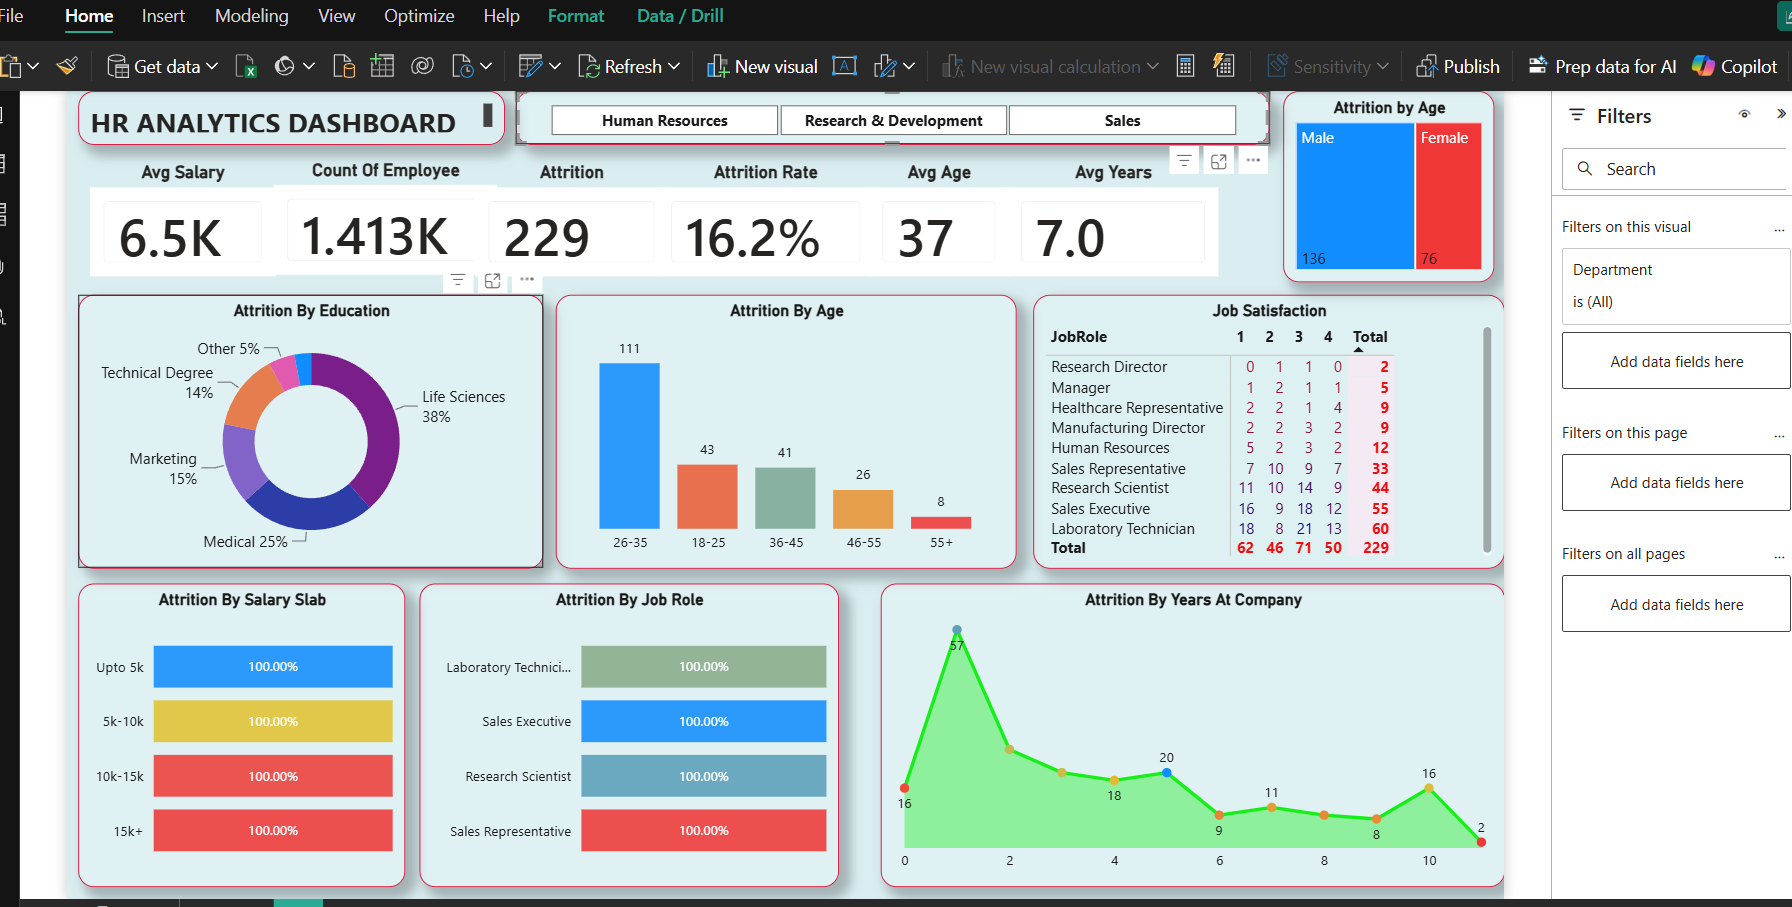

This screenshot's page, from the dashboard's own definition file:
{"tool":"powerbi","page":{"name":"Page 1","canvas":[1280,720],"ordinal":0},"visuals":[{"type":"cardVisual","title":"Count Of Employee ","fields":{"Data":["CountNonNull(HR_Analytics.EmpID)"]},"box":[179.8,61.7,209.9,108.4],"z":0},{"type":"cardVisual","title":"Attrition","fields":{"Data":["Sum(HR_Analytics.AttritionCount)"]},"box":[358.1,63.1,182.5,107],"z":1000},{"type":"cardVisual","title":"Attrition Rate ","fields":{"Data":["HR_Analytics.AttritionRate"]},"box":[521.4,63.1,203.1,107],"z":2000},{"type":"cardVisual","title":"Avg Age","fields":{"Data":["Avg(HR_Analytics.Age)"]},"box":[709.4,63.1,135.8,107],"z":3000},{"type":"cardVisual","title":"Avg Salary","fields":{"Data":["Avg(HR_Analytics.MonthlyIncome)"]},"box":[15.1,63.1,175.6,107],"z":4000},{"type":"cardVisual","title":"Avg Years ","fields":{"Data":["Avg(HR_Analytics.YearsAtCompany)"]},"box":[832.9,63.1,199,107],"z":5000},{"type":"donutChart","title":"Attrition By Education","fields":{"Category":["HR_Analytics.EducationField"],"Y":["Sum(HR_Analytics.AttritionCount)"]},"box":[9.6,181.1,414.4,244.3],"z":6000},{"type":"pivotTable","title":"Job Satisfaction ","fields":{"Rows":["HR_Analytics.JobRole"],"Values":["Sum(HR_Analytics.AttritionCount)"],"Columns":["HR_Analytics.JobSatisfaction"]},"box":[860.4,181.1,419.9,244.3],"z":7000},{"type":"columnChart","title":"Attrition By Age","fields":{"Category":["HR_Analytics.AgeGroup"],"Y":["Sum(HR_Analytics.AttritionCount)"]},"box":[434.9,181.4,410.5,244.2],"z":8000},{"type":"hundredPercentStackedBarChart","title":"Attrition By Salary Slab","fields":{"Category":["HR_Analytics.SalarySlab"],"Y":["Sum(HR_Analytics.AttritionCount)"]},"box":[9.6,439.1,290.9,270.3],"z":9000},{"type":"hundredPercentStackedBarChart","title":"Attrition By Job Role","fields":{"Category":["HR_Analytics.JobRole"],"Y":["Sum(HR_Analytics.AttritionCount)"]},"box":[314.2,439.1,373.2,270.3],"z":10000},{"type":"areaChart","title":"Attrition By Years At Company","fields":{"Category":["HR_Analytics.YearsAtCompany"],"Y":["Sum(HR_Analytics.AttritionCount)"]},"box":[724.5,439.1,555.7,270.3],"z":11000},{"type":"treemap","title":"Attrition by Age","fields":{"Group":["HR_Analytics.Gender"],"Values":["Sum(HR_Analytics.AttritionCount)"]},"box":[1082.7,0,188,170.2],"z":12000},{"type":"slicer","fields":{"Values":["HR_Analytics.Department"]},"box":[399.3,0,671,48],"z":13000},{"type":"textbox","box":[9.6,0,380.1,48],"z":14000}]}

Visuals, with their boxes in screenshot pixels (x1, y1, x2, y2):
"Count Of Employee " cardVisual: BBox(223, 86, 483, 220)
"Attrition" cardVisual: BBox(444, 88, 670, 220)
"Attrition Rate " cardVisual: BBox(647, 88, 898, 220)
"Avg Age" cardVisual: BBox(880, 88, 1048, 220)
"Avg Salary" cardVisual: BBox(19, 88, 236, 220)
"Avg Years " cardVisual: BBox(1033, 88, 1280, 220)
"Attrition By Education" donutChart: BBox(12, 234, 526, 537)
"Job Satisfaction " pivotTable: BBox(1067, 234, 1588, 537)
"Attrition By Age" columnChart: BBox(539, 234, 1048, 537)
"Attrition By Salary Slab" hundredPercentStackedBarChart: BBox(12, 554, 373, 889)
"Attrition By Job Role" hundredPercentStackedBarChart: BBox(390, 554, 852, 889)
"Attrition By Years At Company" areaChart: BBox(898, 554, 1587, 889)
"Attrition by Age" treemap: BBox(1343, 9, 1576, 220)
slicer - HR_Analytics.Department: BBox(495, 9, 1327, 69)
textbox: BBox(12, 9, 483, 69)
